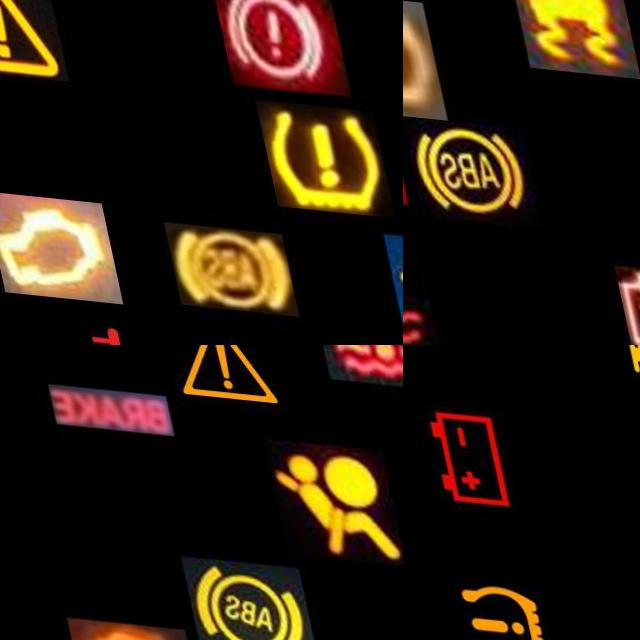Central Warning lamp: (147, 345, 285, 416), (0, 0, 61, 78)
Engine cooling system: (30, 300, 168, 345), (305, 345, 403, 380)
